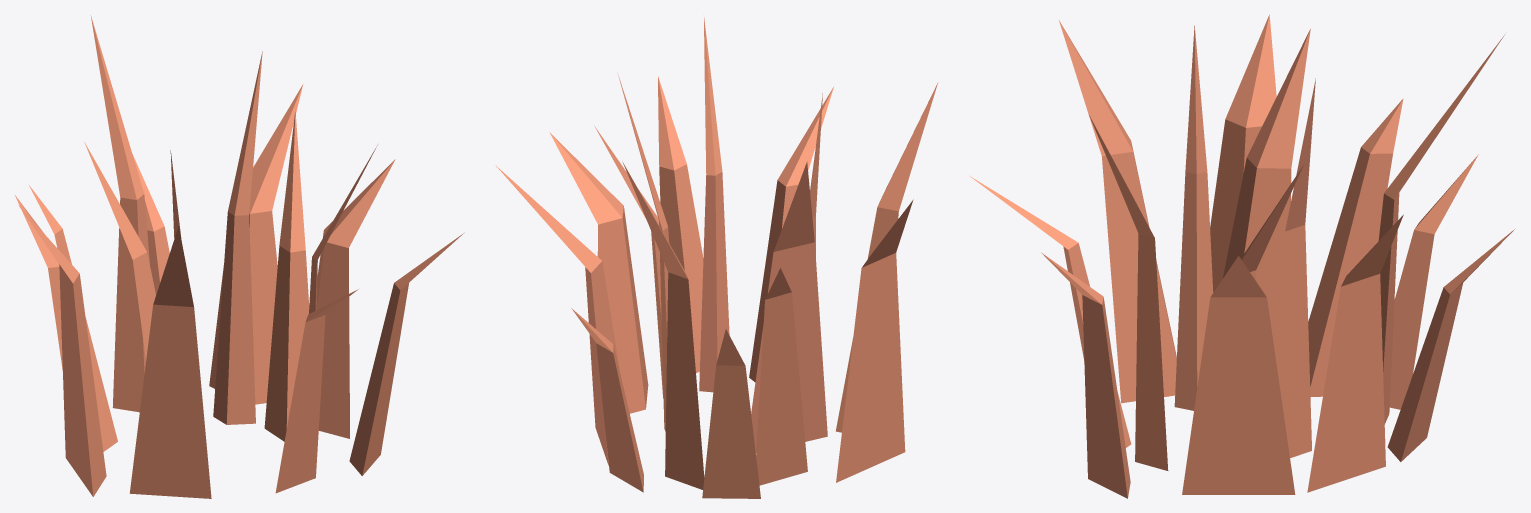
The model's file is bush.fbx.
The picture shows the model from 3 angles, left to right: view 1: azimuth 30°, elevation 25°; view 2: azimuth 150°, elevation 25°; view 3: azimuth 270°, elevation 25°; orthographic projection. The views are drawn at different scales.
Parts seen in each view (by area): view 1: Cone.001; view 2: Cone.001; view 3: Cone.001.
Part boxes in pixels (bbox=[...]): Cone.001: bbox=[15, 15, 464, 498]; Cone.001: bbox=[495, 17, 938, 498]; Cone.001: bbox=[970, 14, 1514, 498].
Size of the model in its own units: 2.01 by 1.86 by 2.3.
1 material, 1 textured.
